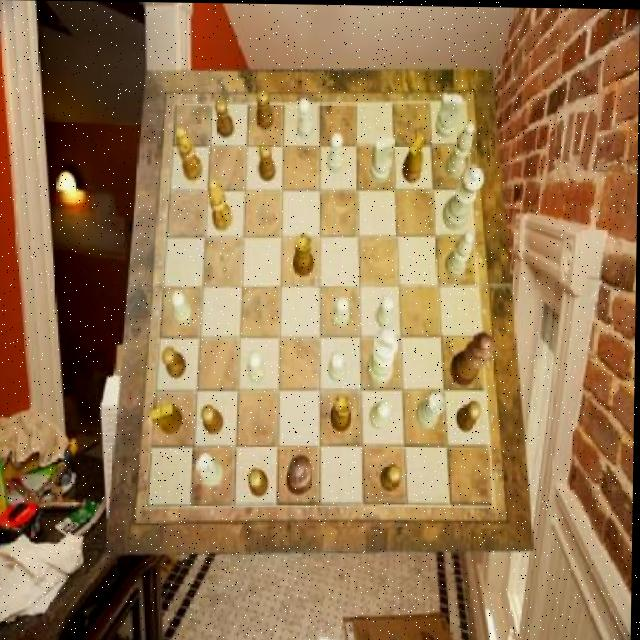bishop: (175, 127, 203, 182), (209, 176, 233, 231)
black-bishop: (287, 454, 315, 495)
black-king: (402, 132, 425, 183), (151, 403, 184, 436)
black-knight: (457, 399, 482, 432), (163, 347, 187, 379), (214, 98, 234, 136), (202, 405, 225, 435), (256, 89, 273, 129), (258, 143, 275, 181), (248, 467, 269, 497), (380, 463, 402, 491)
black-pawn: (450, 330, 495, 385)
black-queen: (294, 233, 316, 275), (331, 393, 352, 431)
black-rook: (445, 121, 474, 177), (446, 230, 474, 278)
white-bishop: (368, 328, 399, 386)
white-king: (435, 91, 462, 137), (370, 135, 395, 183)
white-knight: (172, 291, 194, 325), (327, 131, 345, 172), (297, 97, 314, 139), (377, 293, 395, 328), (329, 350, 348, 381), (247, 351, 265, 383), (370, 400, 391, 427), (333, 294, 350, 326)
white-pawn: (443, 163, 485, 229)
white-queen: (417, 391, 446, 429), (198, 452, 226, 486)
